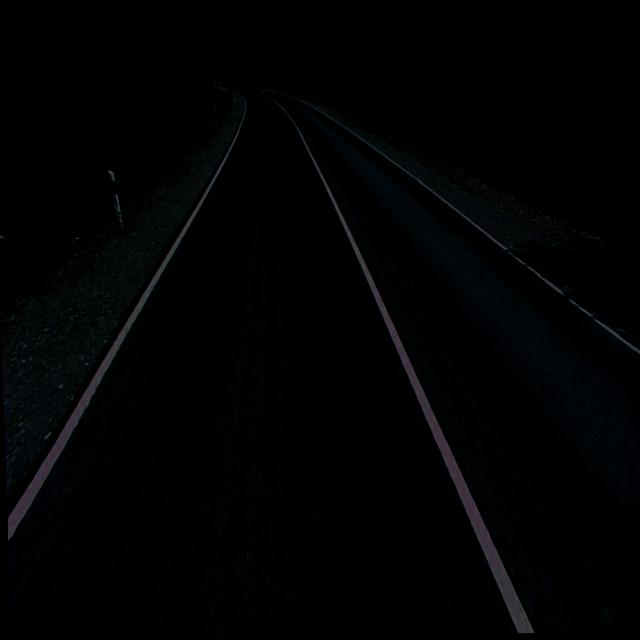road: (6, 82, 640, 640)
